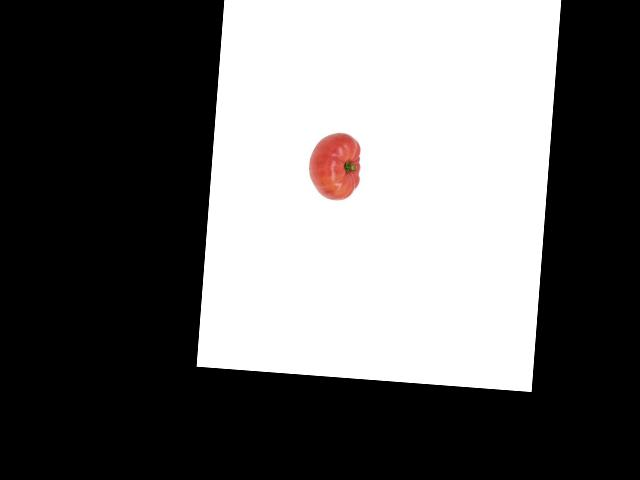tomato: (306, 131, 361, 202)
